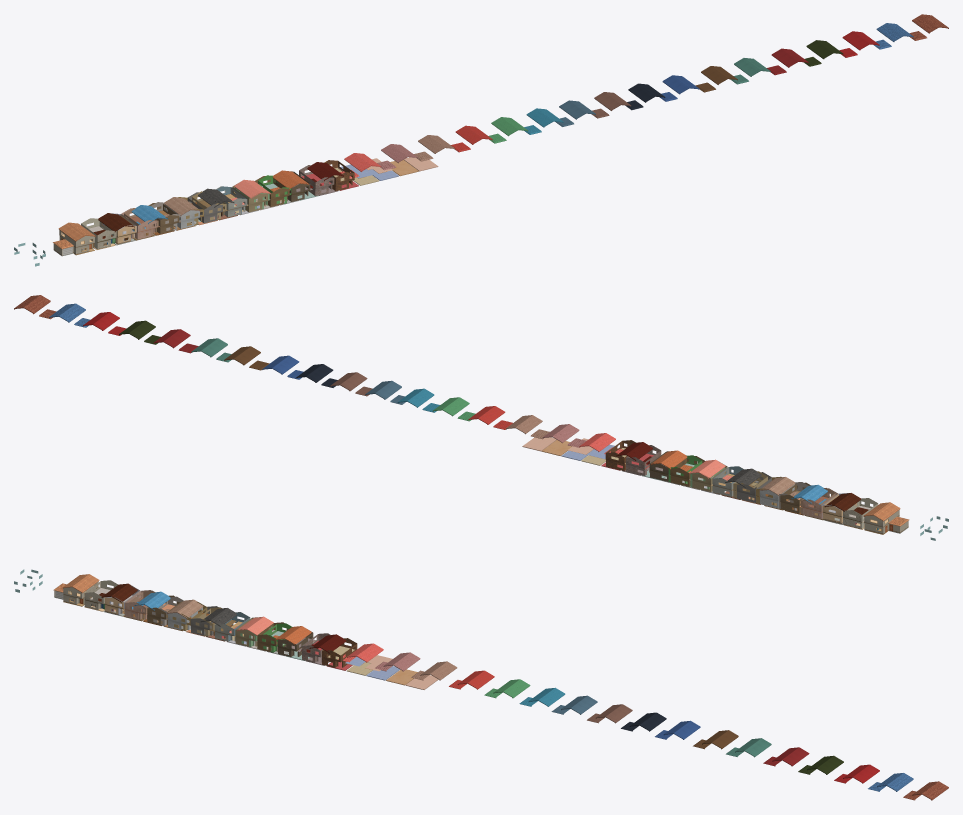
Rendered from House_007_Customs.fbx.
The picture shows the model from 3 angles, top to bottom: view 1: azimuth 30°, elevation 25°; view 2: azimuth 150°, elevation 25°; view 3: azimuth 330°, elevation 25°; orthographic projection.
Size of the model in its own units: 19.26 by 0.3647 by 0.7415.
